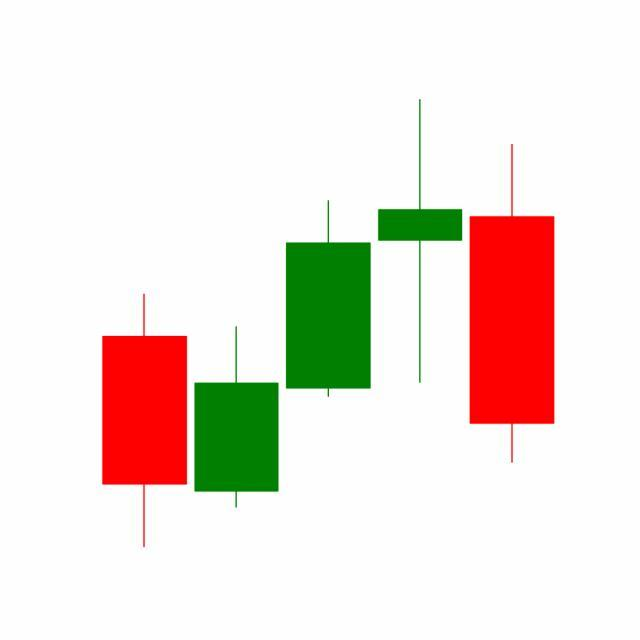Advance Block: (190, 99, 467, 513)
